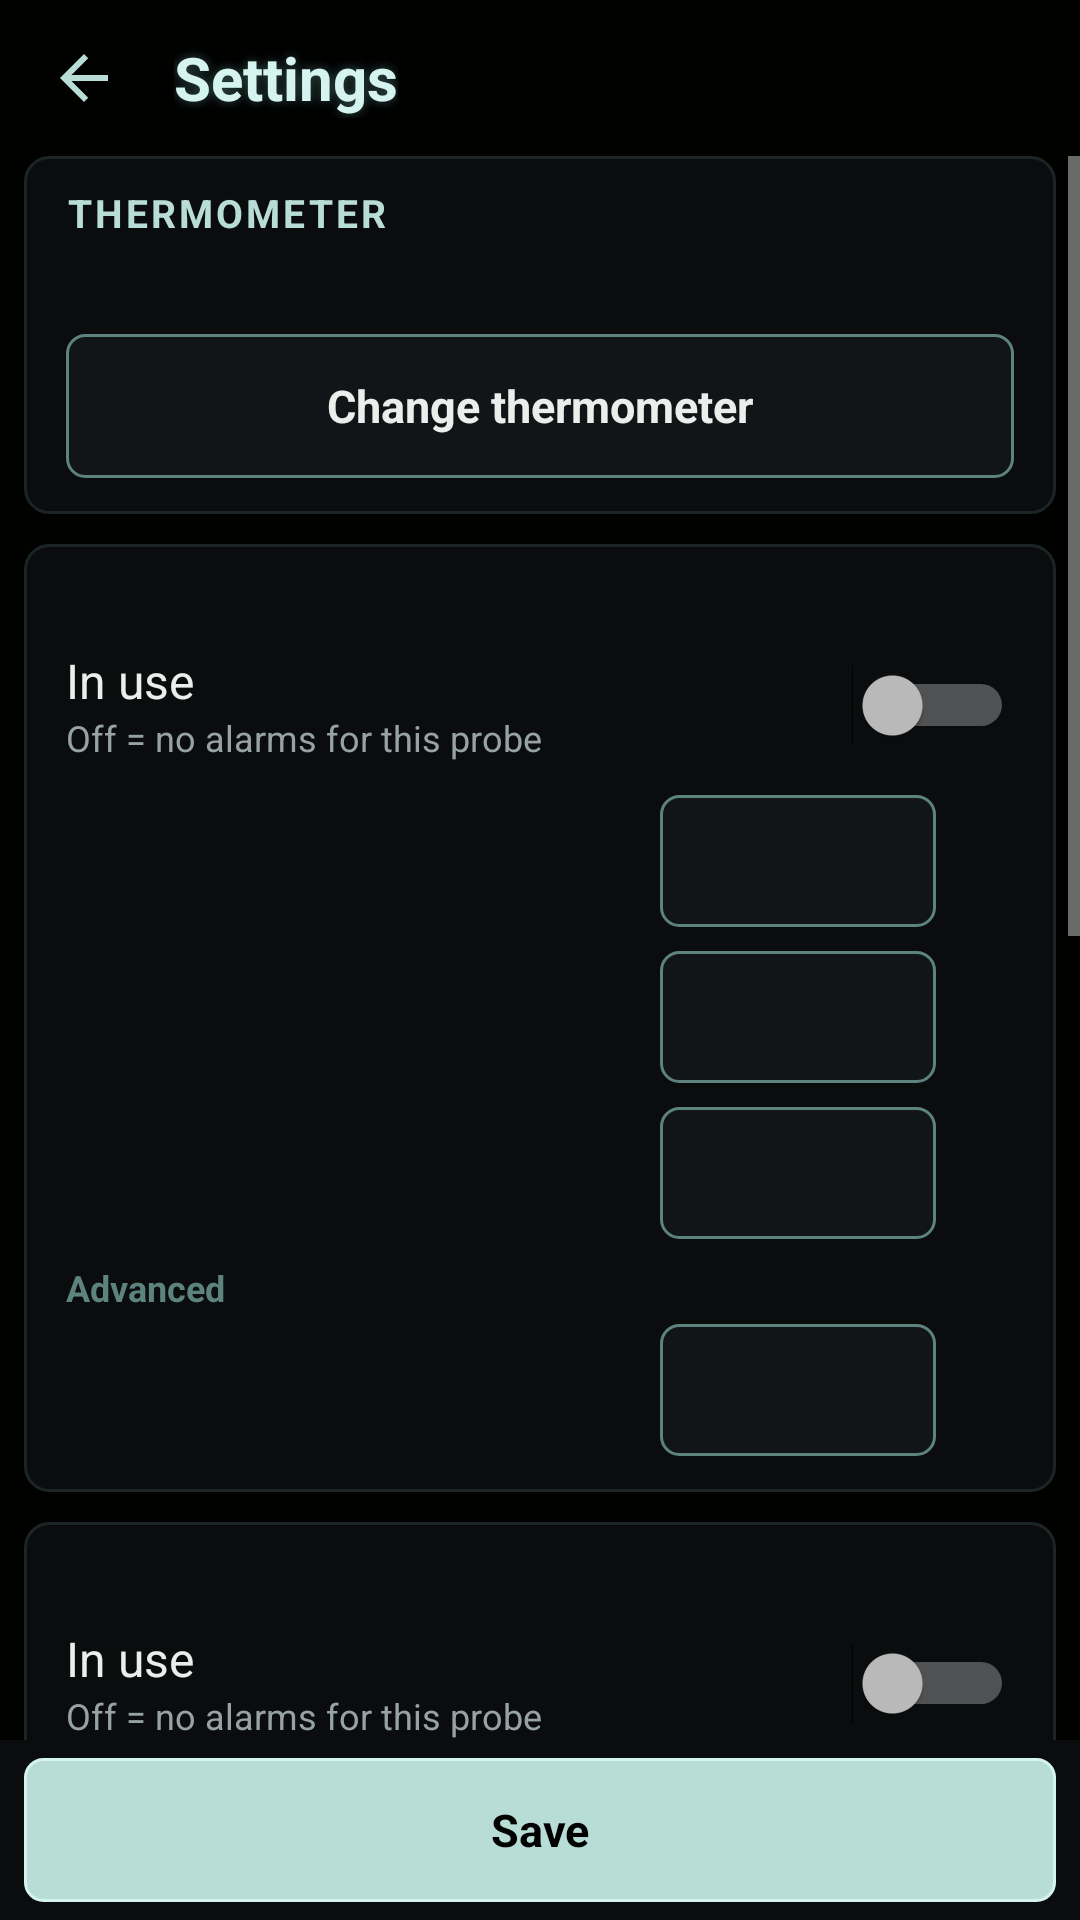

Where to tap for icons on this 1080*1920 app screen, as point (x, y):
Back: point (84, 78)
